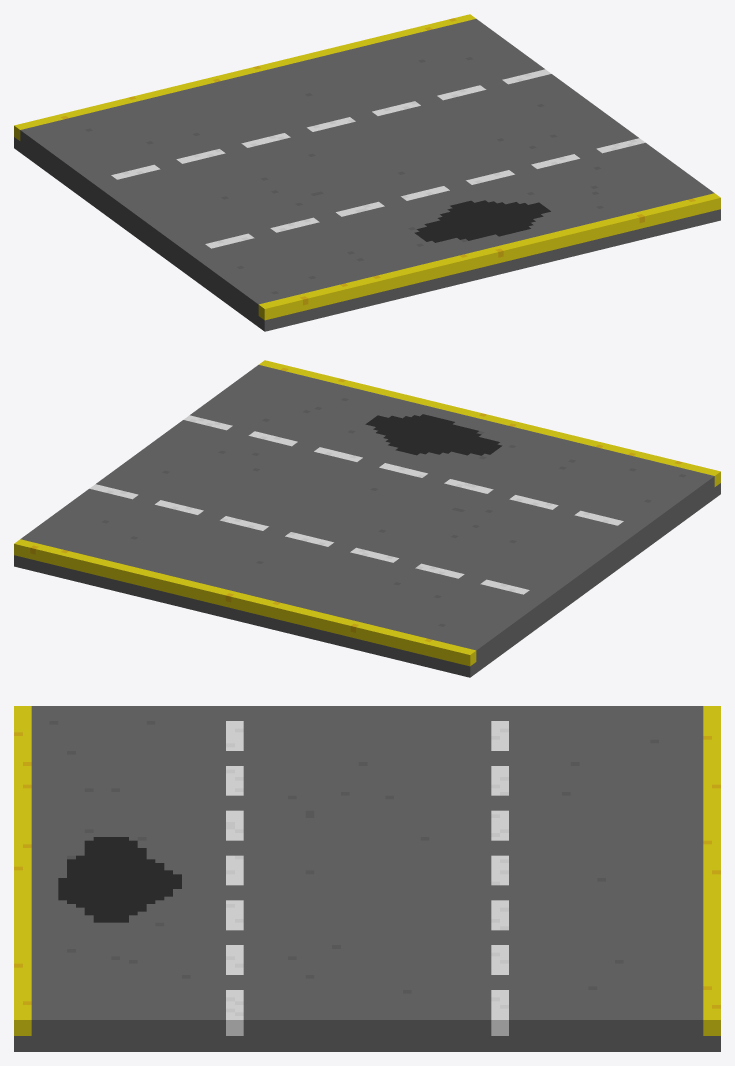
The model's file is Calle2.obj.
The picture shows the model from 3 angles, top to bottom: view 1: azimuth 30°, elevation 25°; view 2: azimuth 150°, elevation 25°; view 3: azimuth 270°, elevation 25°; orthographic projection. The views are drawn at different scales.
Bounding box in the file's own units: 8.4 × 0.4 × 8.
Materials: 1 (1 with a texture image).
